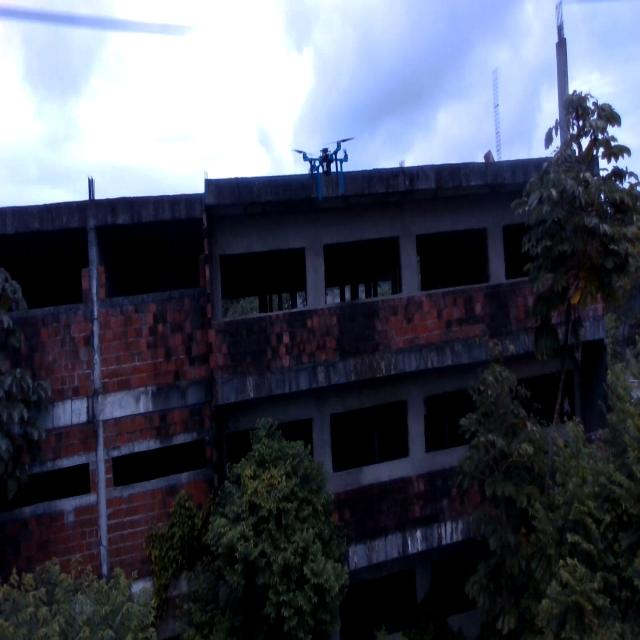-uav-: (285, 129, 358, 206)
